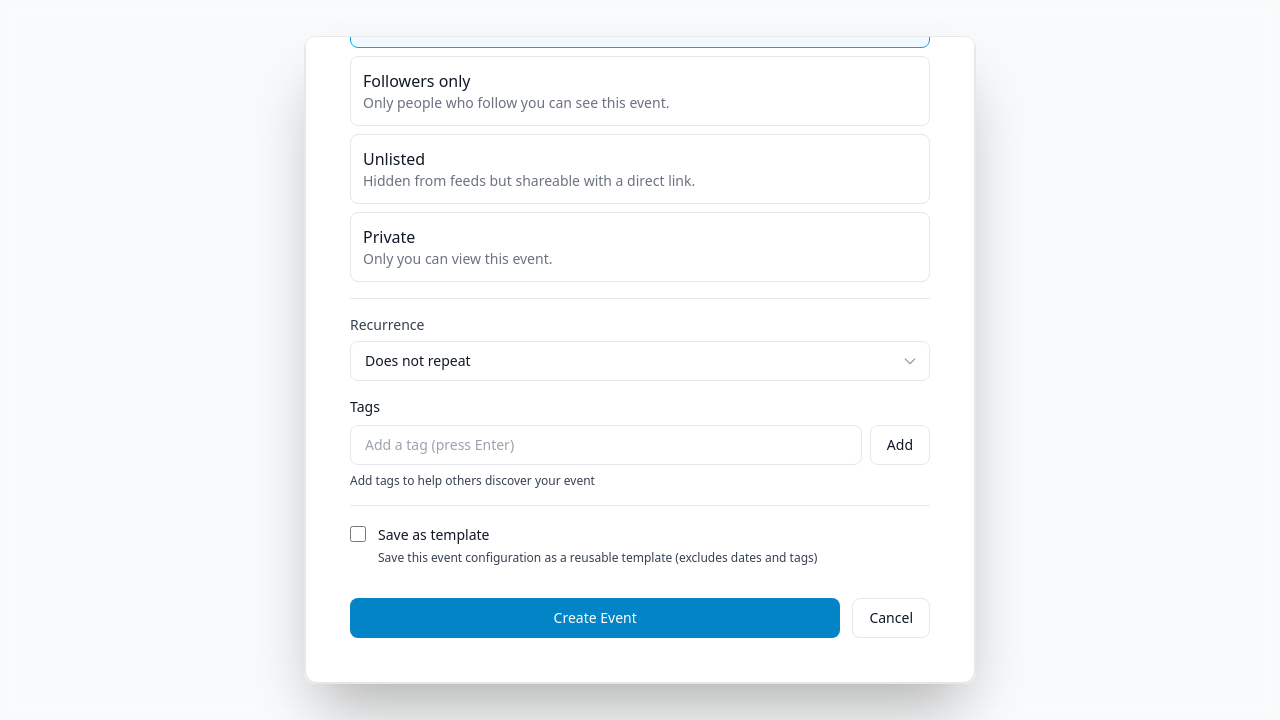
Test: CreateEventModal › should prevent duplicate tags
(page scrolled)
In the field with placeholder "Add a tag (press Enter)": (606, 445) [350, 425, 862, 465], type "music"
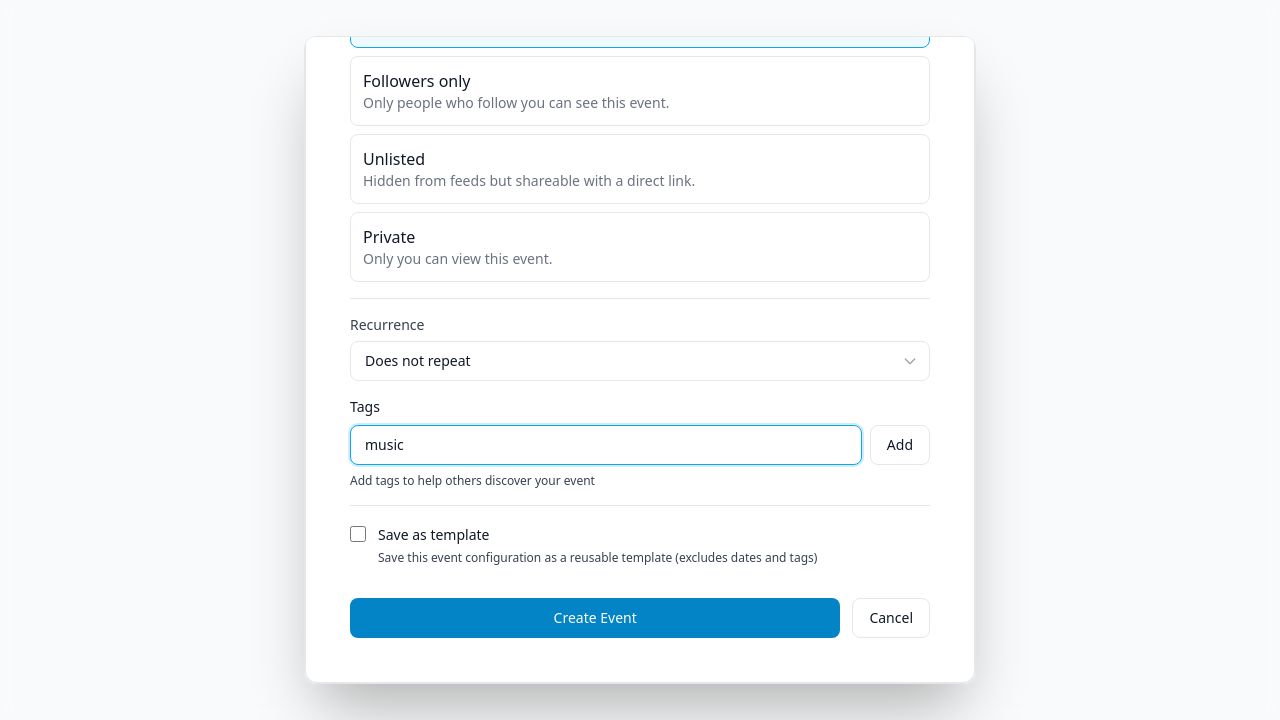
Click the button "Add": (900, 445) [870, 425, 930, 465]
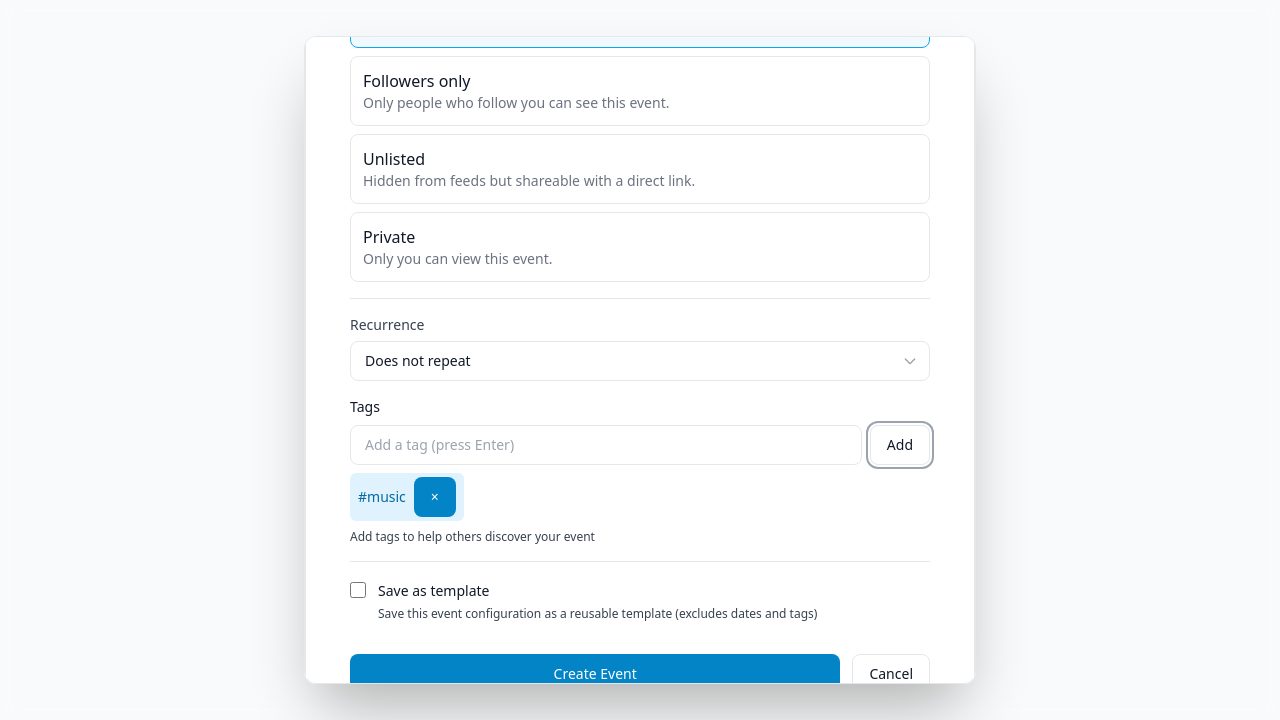
Expected: the text "#music" is shown, [350, 473, 464, 521]
In the field with placeholder "Add a tag (press Enter)": (606, 445) [350, 425, 862, 465], type "music"
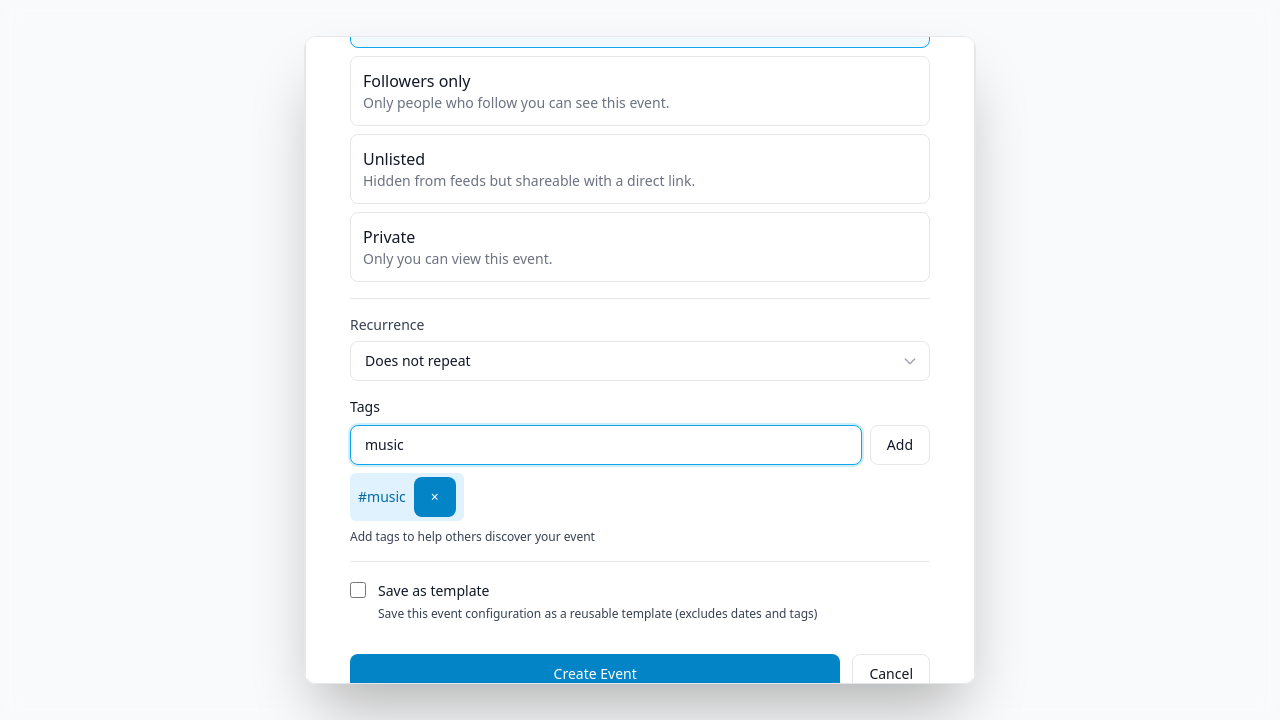
Click the button "Add": (900, 445) [870, 425, 930, 465]
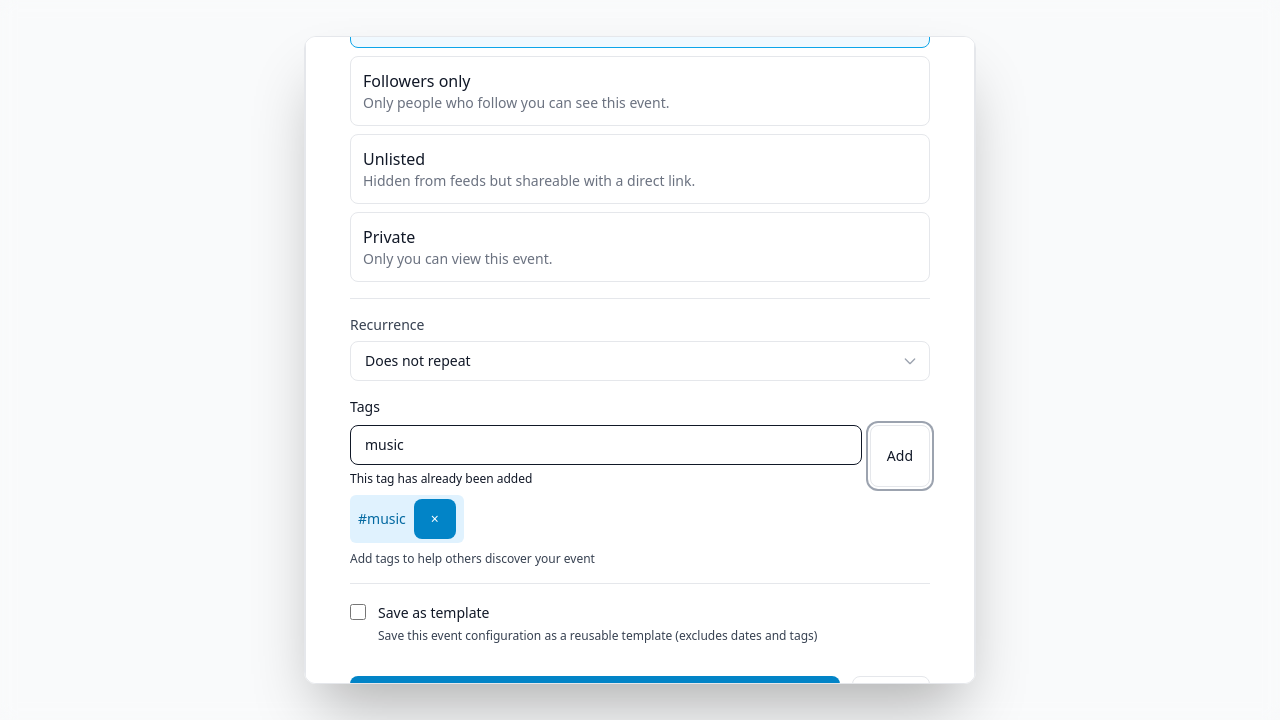
Expected: the text "This tag has already been added" is shown, [350, 470, 532, 487]
